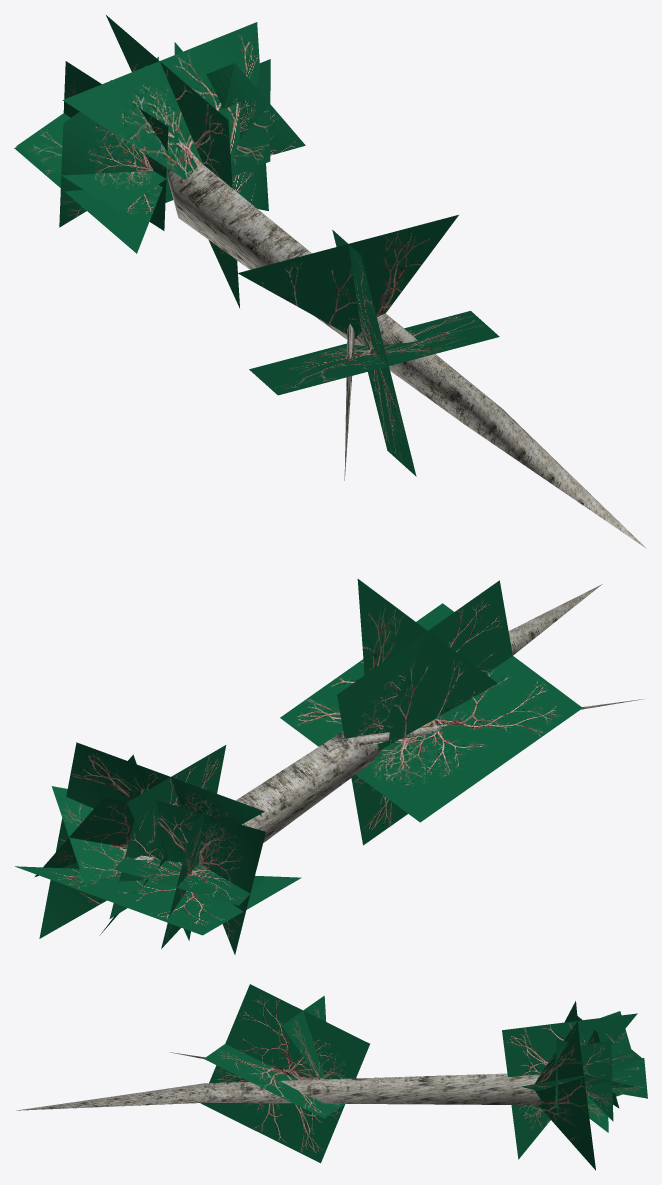
File: decd_whitebirchlog_lg_l2.fbx
The picture shows the model from 3 angles, top to bottom: view 1: azimuth 30°, elevation 25°; view 2: azimuth 150°, elevation 25°; view 3: azimuth 270°, elevation 25°; orthographic projection. The views are drawn at different scales.
Visible parts, largest first — view 1: mesh_node; view 2: mesh_node; view 3: mesh_node.
Part boxes in pixels (x1=…): mesh_node: x1=14, y1=15, x2=646, y2=548; mesh_node: x1=15, y1=579, x2=643, y2=954; mesh_node: x1=16, y1=984, x2=647, y2=1170.
Bounding box in the file's own units: 4.59 × 3.91 × 14.53.
